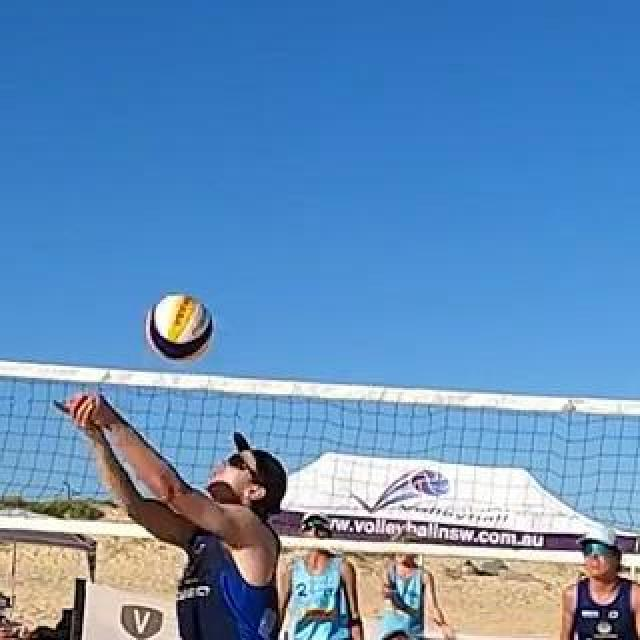volleyball: (150, 297, 212, 359)
